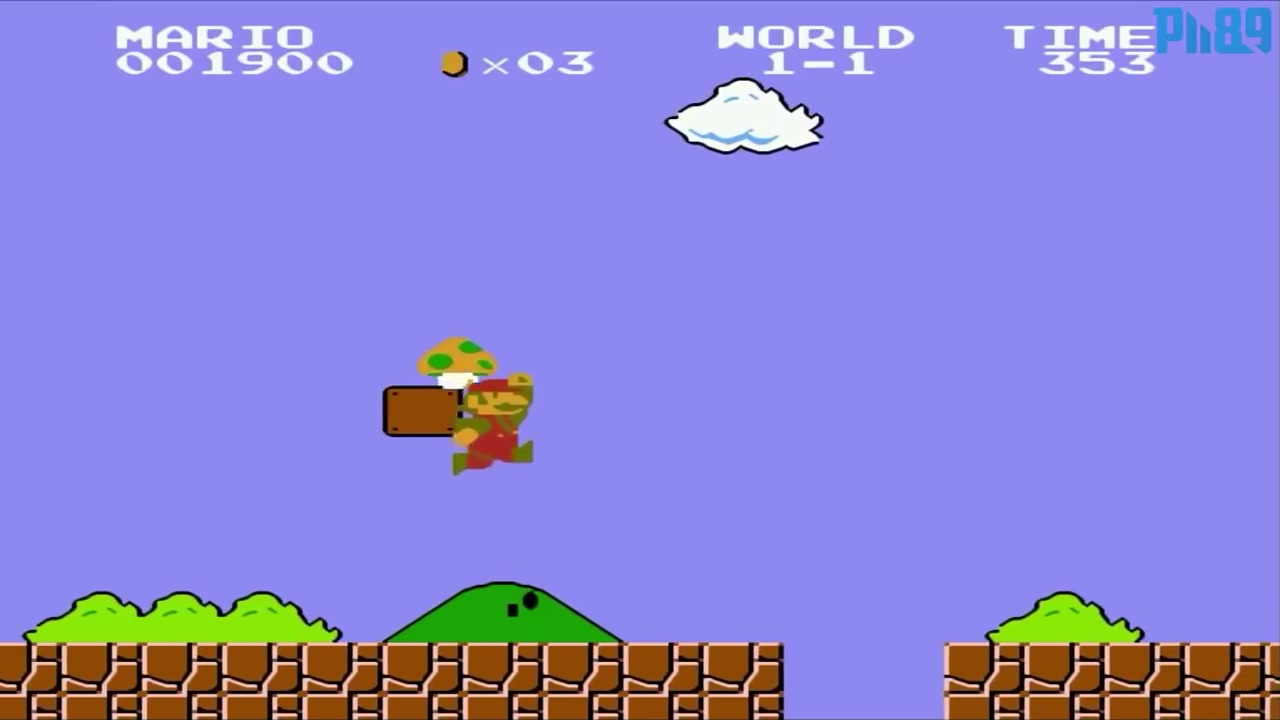mario: (448, 374, 538, 481)
